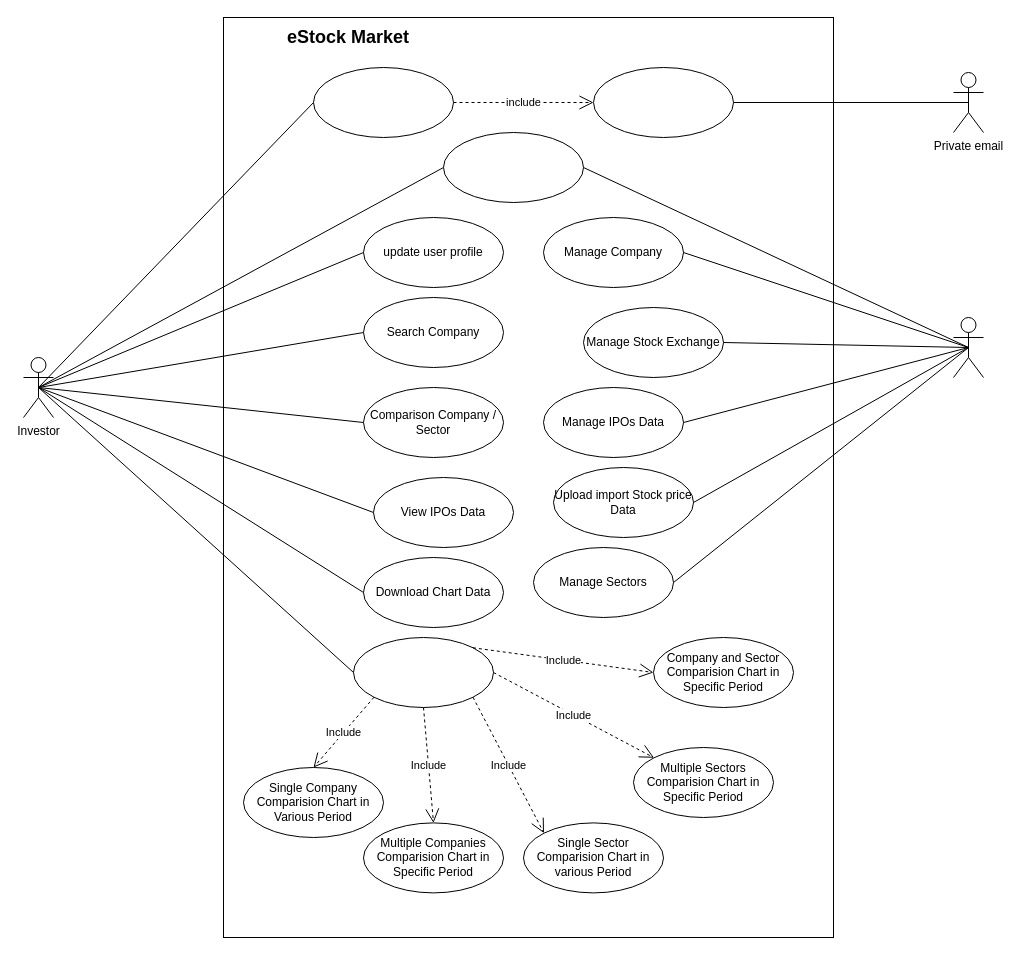
The diagram is 1020 pixels wide and 955 high, and some of its shapes have lost their labels. The centre of each missing label's shape, as x and y in pixels:
Activate Account: the point at 663,102
Admin: the point at 968,347
Generate Bar chart: the point at 423,672
Login & Logout: the point at 513,167
Register Account: the point at 383,102
